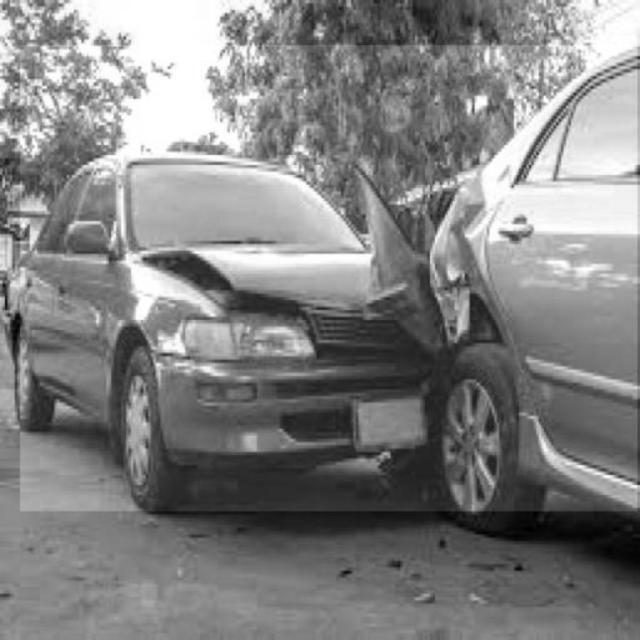accident: (20, 45, 637, 511)
